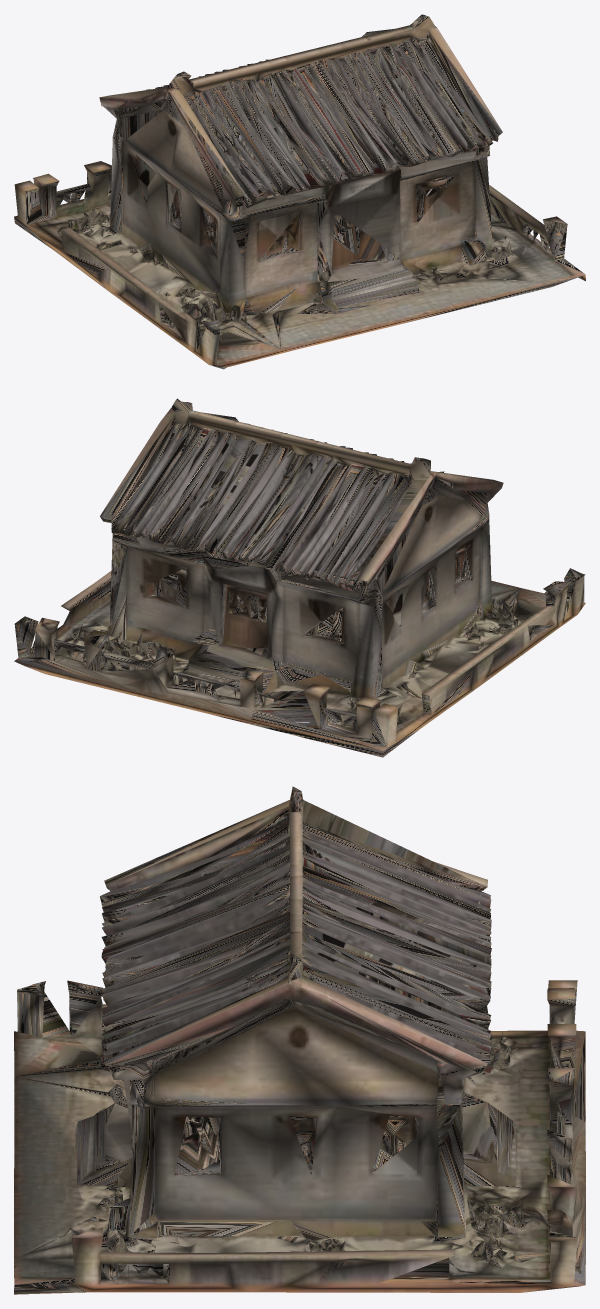
Rendered from bq_bookstore.mid.glb.
3 views of the same model, one above another, from view 1: azimuth 30°, elevation 25°; view 2: azimuth 150°, elevation 25°; view 3: azimuth 270°, elevation 25° (orthographic). The views are drawn at different scales.
Bounding box in the file's own units: 1.9 × 1.01 × 1.79.
1 material, 1 textured.
